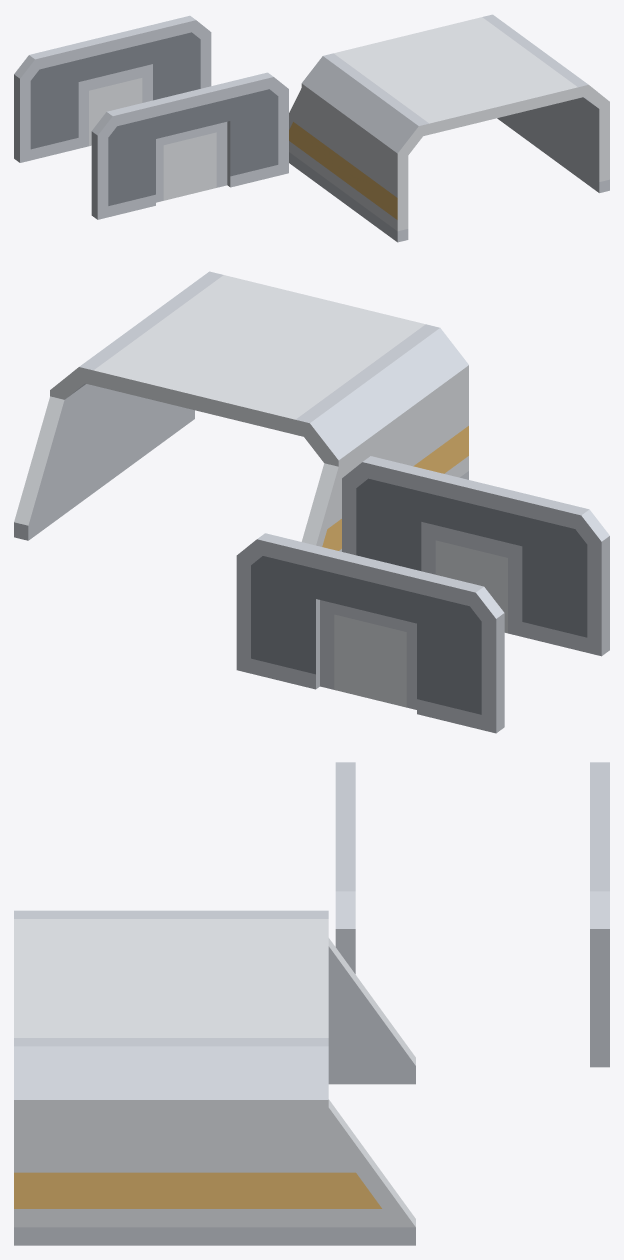
File: hangar_smallB.glb
The picture shows the model from 3 angles, top to bottom: view 1: azimuth 30°, elevation 25°; view 2: azimuth 150°, elevation 25°; view 3: azimuth 270°, elevation 25°; orthographic projection. The views are drawn at different scales.
Visible parts, largest first — view 1: hangar_smallB, gate.006, gate.007; view 2: hangar_smallB, gate.007, gate.006; view 3: hangar_smallB, gate.007, gate.006.
Boxes of the visible parts, bbox=[...] form: hangar_smallB: bbox=[289, 14, 609, 242]; gate.006: bbox=[91, 72, 288, 219]; gate.007: bbox=[14, 15, 211, 162]; hangar_smallB: bbox=[14, 271, 468, 551]; gate.007: bbox=[236, 533, 504, 733]; gate.006: bbox=[342, 456, 609, 656]; hangar_smallB: bbox=[14, 910, 415, 1245]; gate.007: bbox=[590, 762, 609, 1067]; gate.006: bbox=[335, 762, 355, 973].
Size of the model in its own units: 3.9 by 1 by 2.97.
